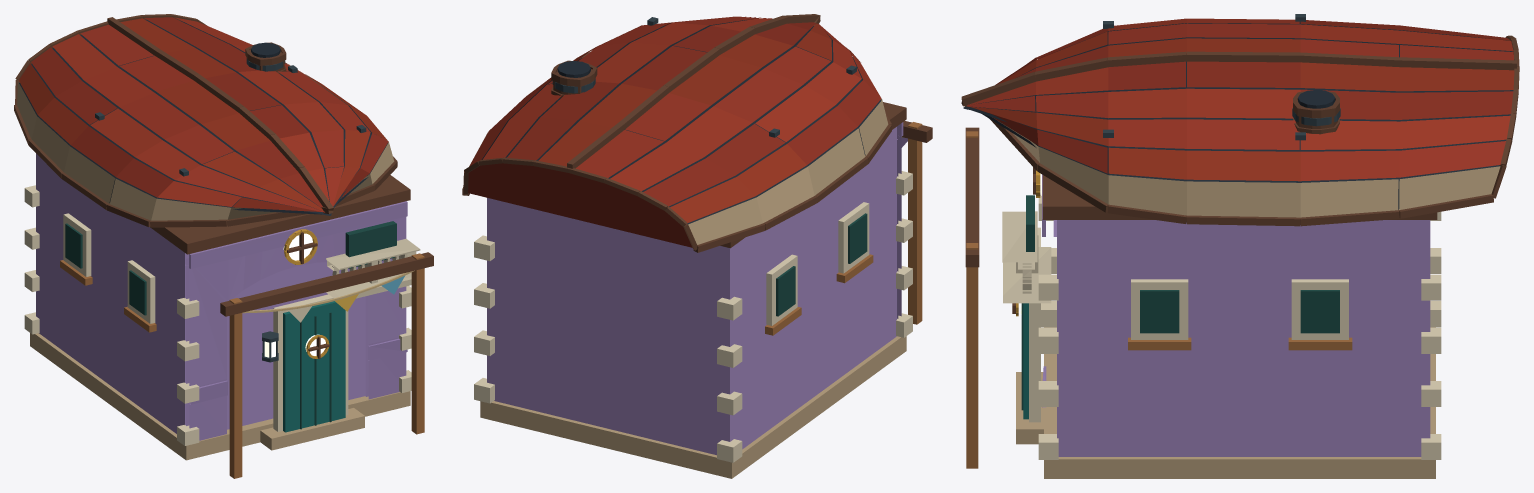
File: boat-shop-medium-lilac.glb
3 renders of one model, left to right at view 1: azimuth 30°, elevation 25°; view 2: azimuth 150°, elevation 25°; view 3: azimuth 270°, elevation 25°, orthographic. The views are drawn at different scales.
Visible parts, largest first — view 1: boat-shop-medium-lilac; view 2: boat-shop-medium-lilac; view 3: boat-shop-medium-lilac.
Boxes of the visible parts, box(x1,y1,x2,y2) form: boat-shop-medium-lilac: box(14, 14, 433, 478); boat-shop-medium-lilac: box(462, 14, 932, 478); boat-shop-medium-lilac: box(961, 14, 1519, 478).
Size of the model in its own units: 4.31 by 4.36 by 6.14.
